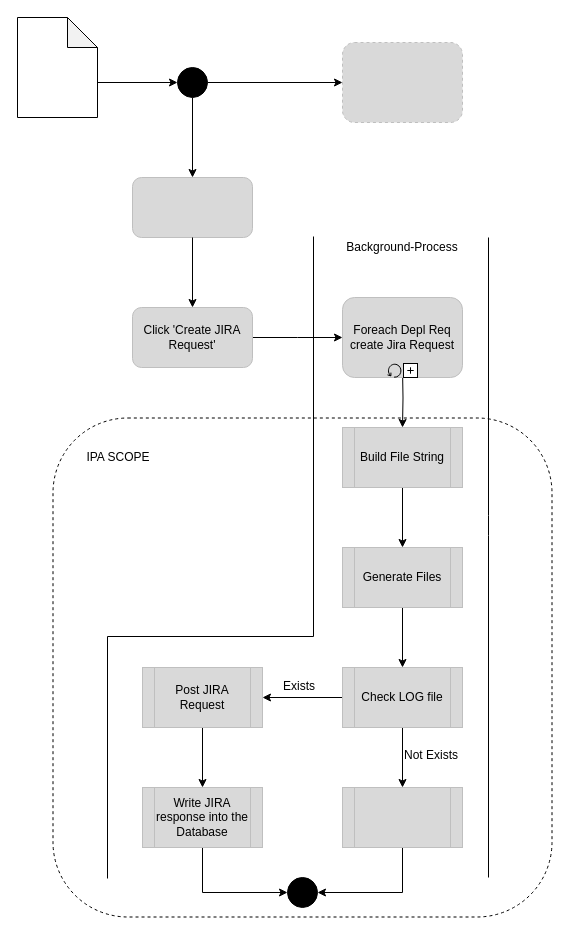
Image size: 570x935. Some labels were removed from this diagram. The shapes that lost their labels are listed below. From the top down, each one's centre as x and y in pixels, then its label:
point (57, 67): User Accesses ADM 2
point (402, 82): Update statusid in DB with JIRA status
point (192, 207): Select Deployments
point (402, 817): Write path/log into Database
